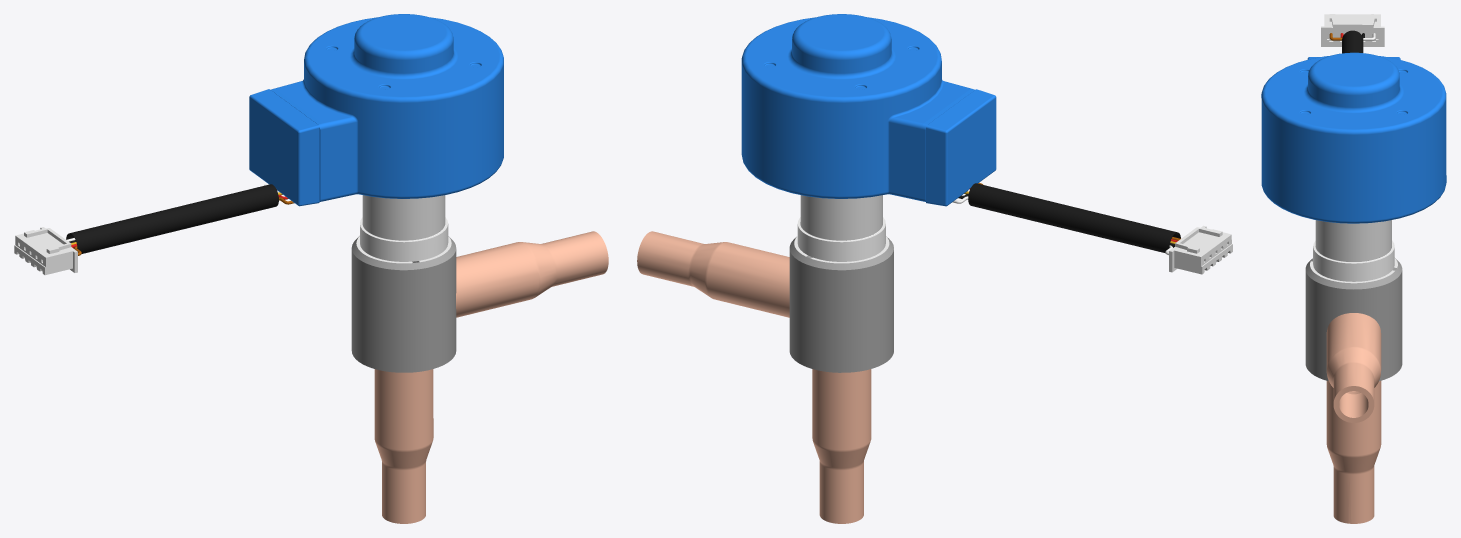
File: EST 8M.glb
3 renders of one model, left to right at view 1: azimuth 30°, elevation 25°; view 2: azimuth 150°, elevation 25°; view 3: azimuth 270°, elevation 25°, orthographic. The views are drawn at different scales.
Parts seen in each view (by area): view 1: Solid1.010, Solid1.001; view 2: Solid1.010, Solid1.001; view 3: Solid1.010, Solid1.001.
Part boxes in pixels (x1,y1,x2,y2): Solid1.010: (14, 14, 503, 372); Solid1.001: (362, 195, 608, 523); Solid1.010: (741, 14, 1232, 372); Solid1.001: (637, 195, 882, 523); Solid1.010: (1261, 14, 1446, 523); Solid1.001: (1315, 220, 1391, 523).
Size of the model in its own units: 0.1413 by 0.1144 by 0.0431.
